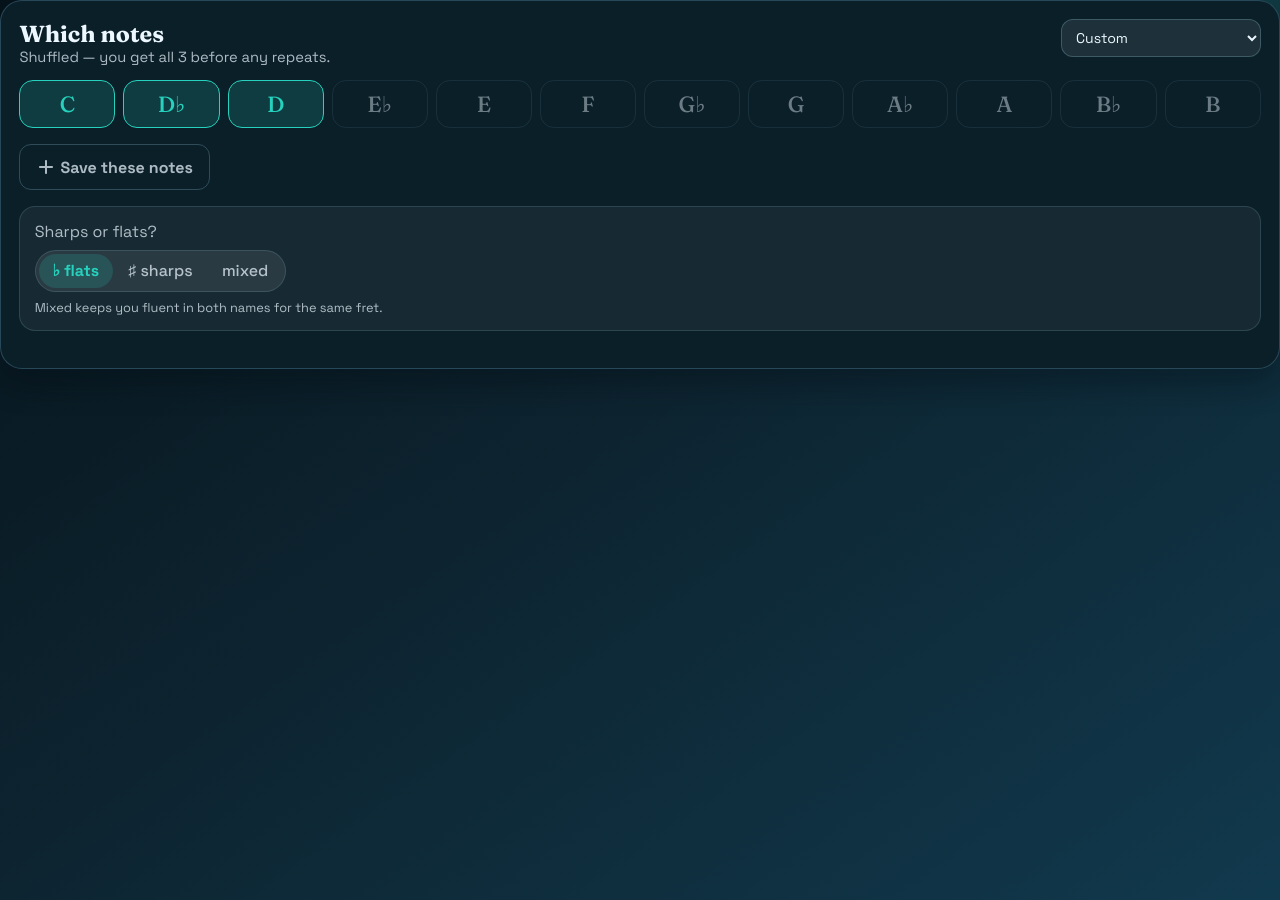
Test case: NotePoolCard saved presets › saves the current notes under a name and selects them
Check: the dropdown with test id "preset-select" shows "Custom", box [1061,19,1261,57]
Click the button with test id "preset-save": {"x": 115, "y": 167} [19,144,210,190]
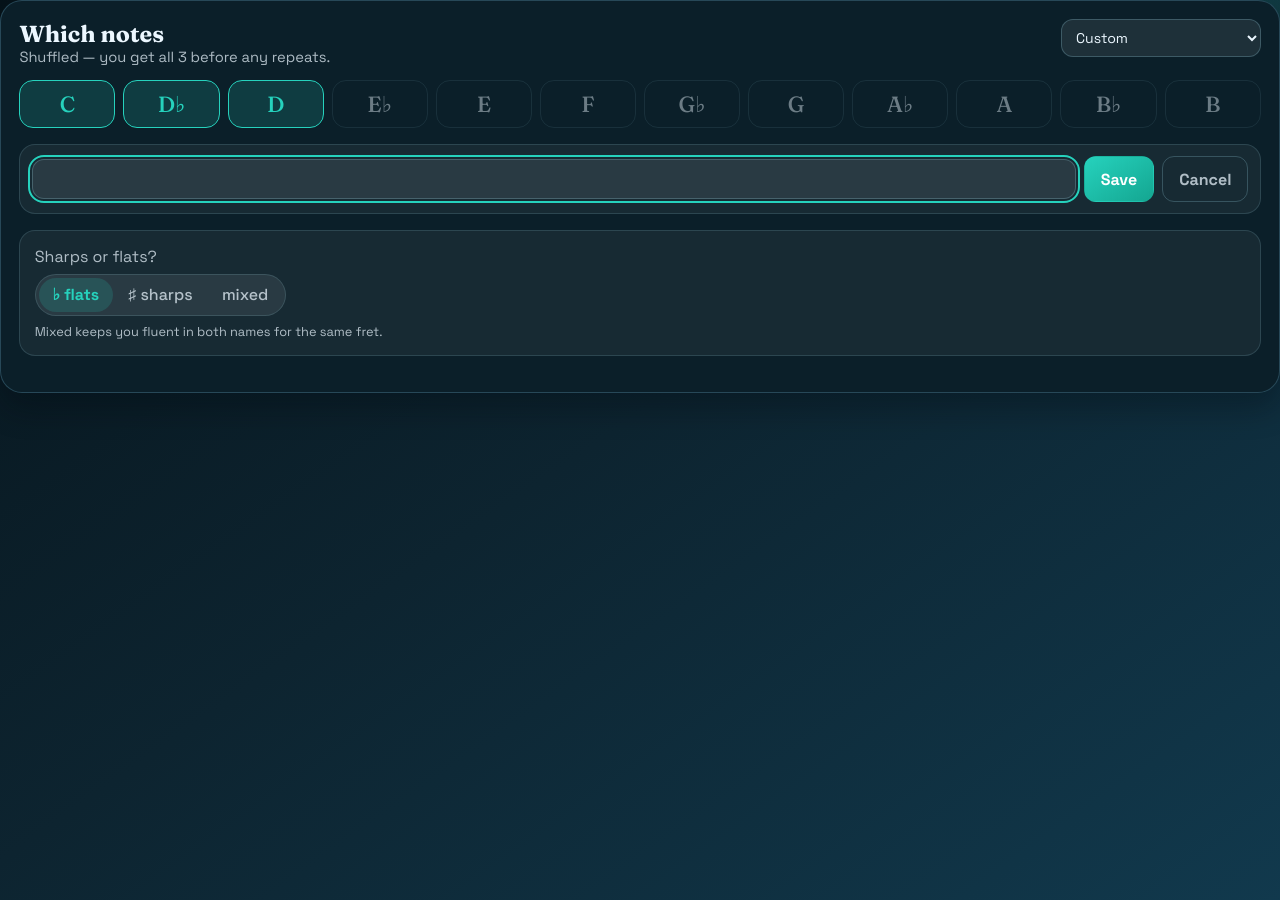
In the field named "Preset name": {"x": 554, "y": 179} [32,159,1076,200], type "Two-string drill"
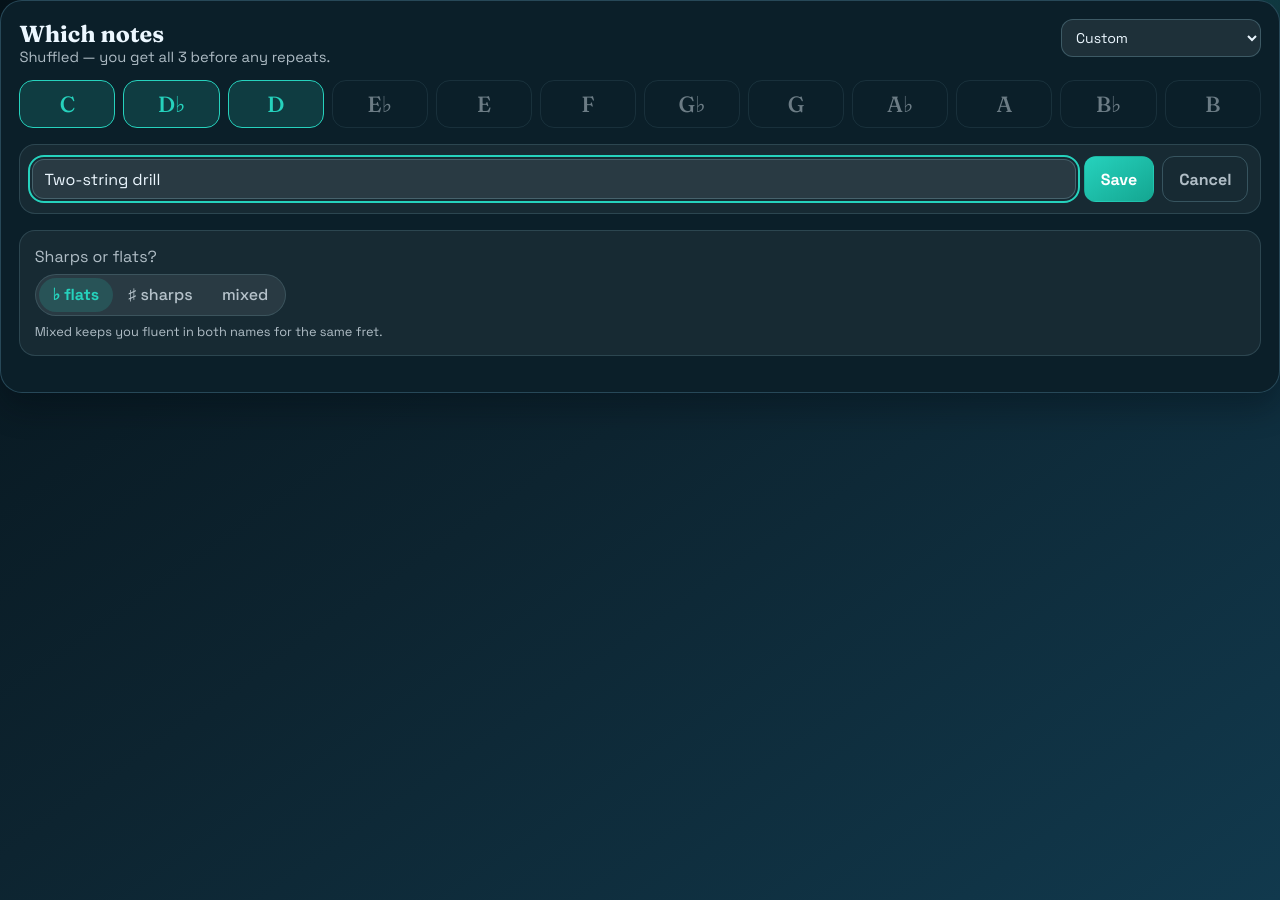
Submit the form with test id "preset-save-form", box [19,144,1261,214]
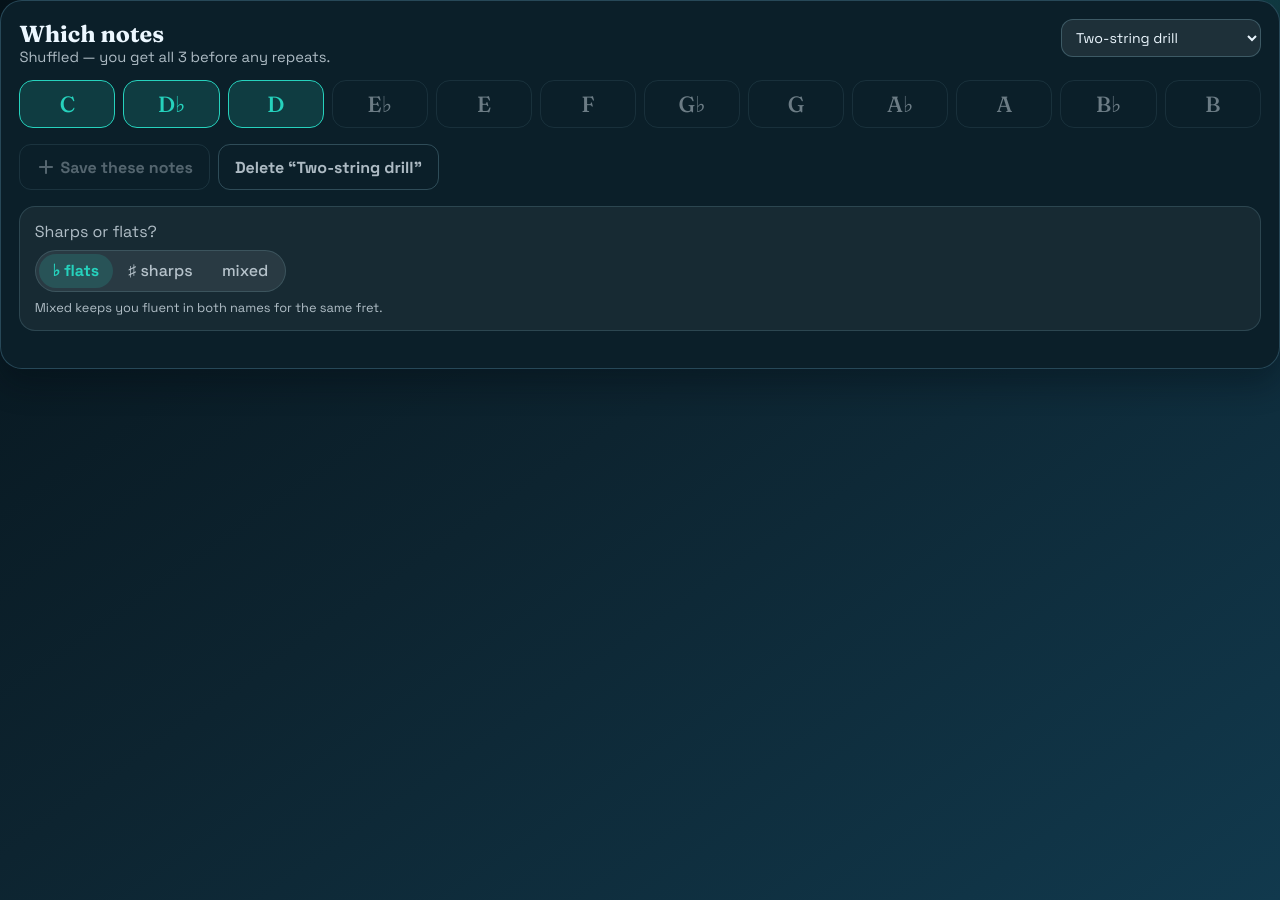
Check: the dropdown with test id "preset-select" shows "Two-string drill", box [1061,19,1261,57]
Check: the form with test id "preset-save-form" is gone
